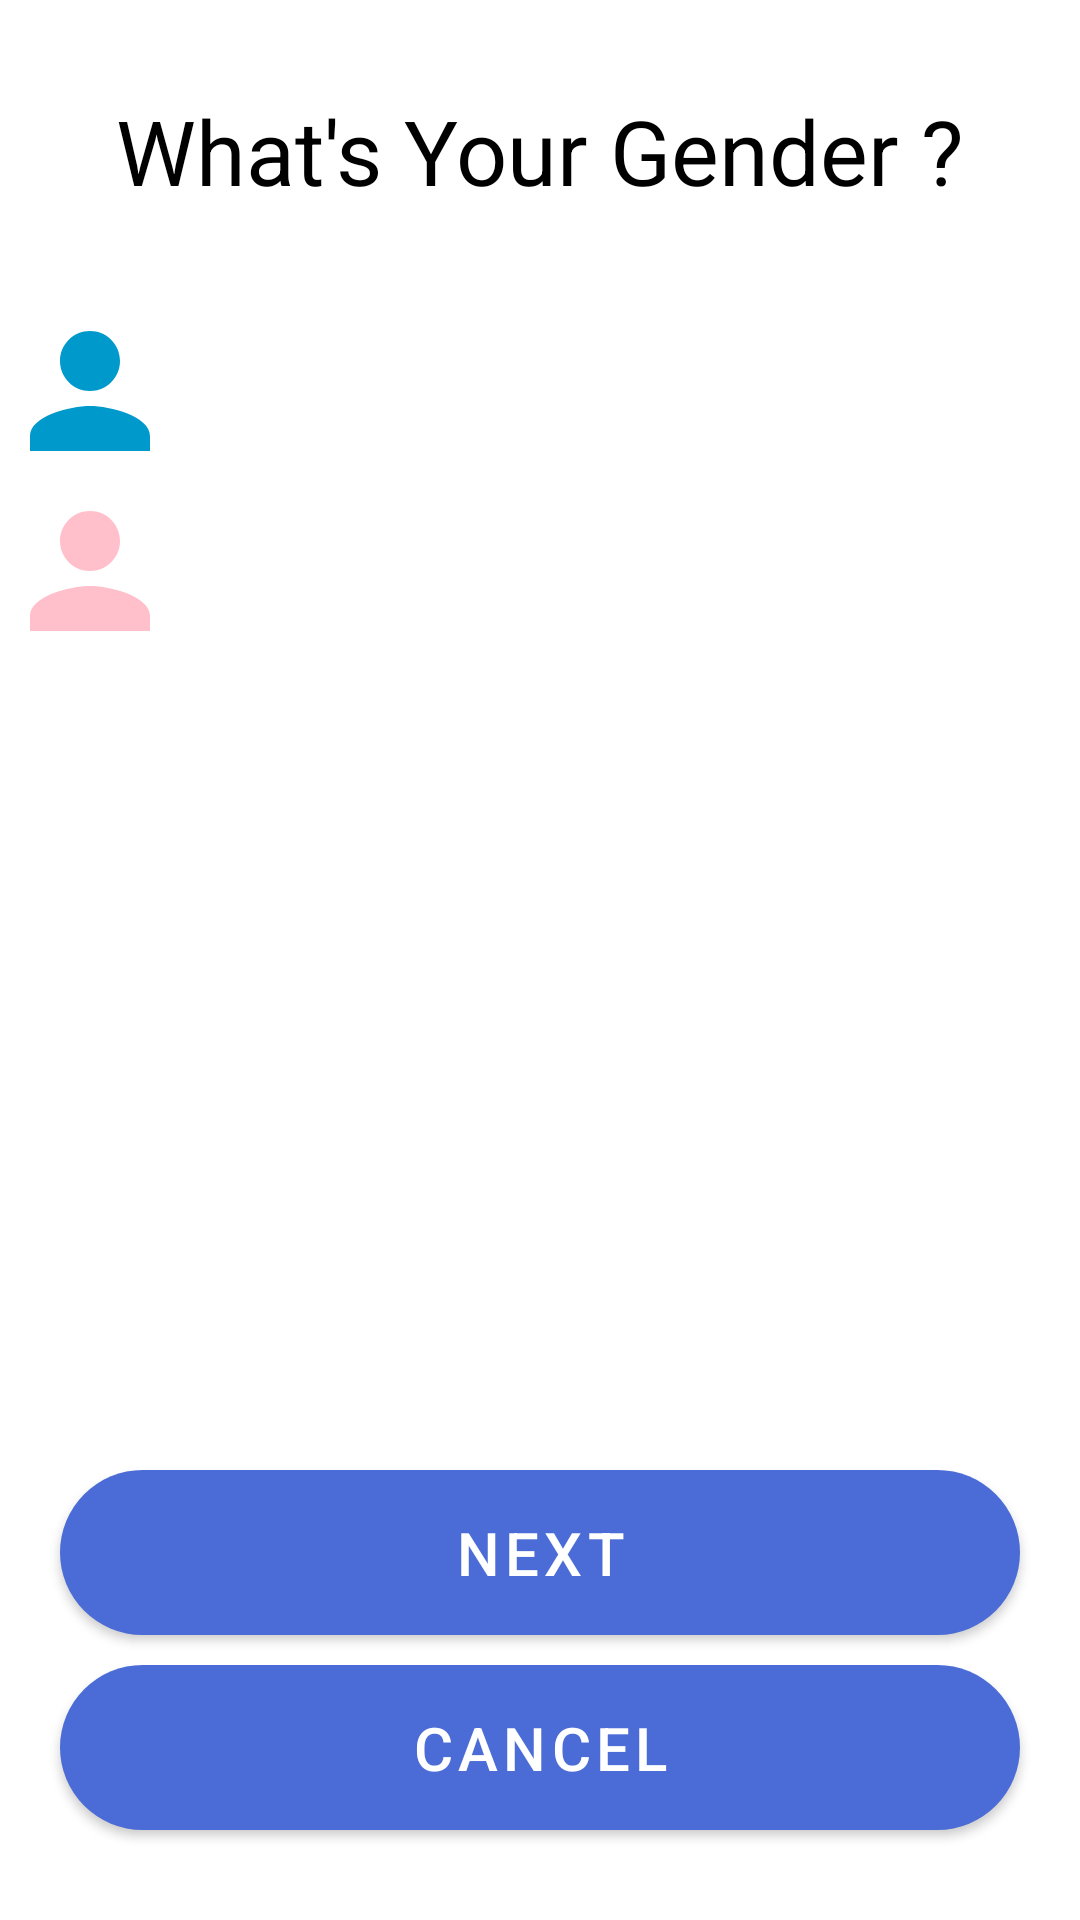

Named icons in this screenshot (1080*1920) and their centers, (x,y):
person: (90,391)
